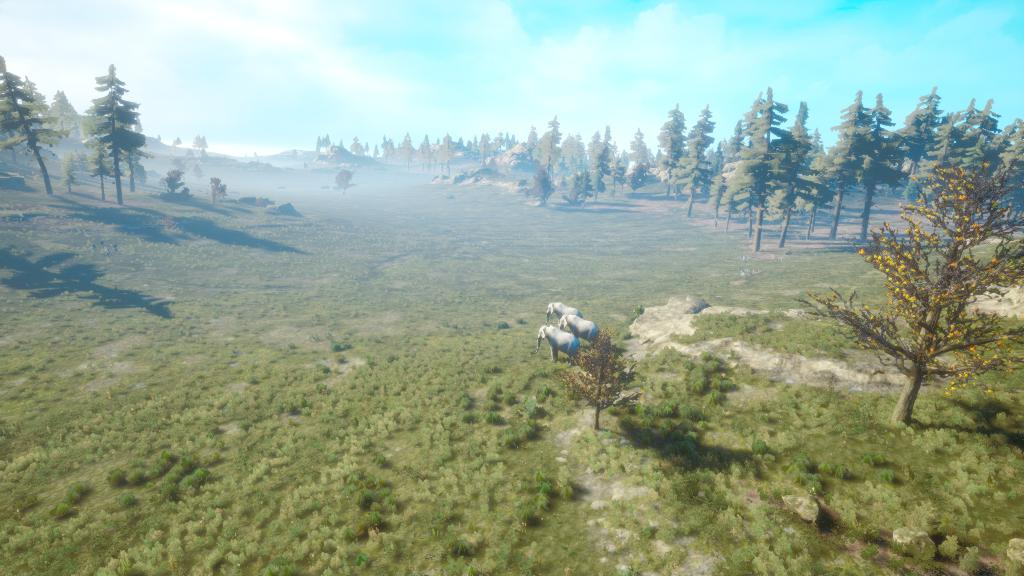elephant: (532, 323, 585, 371), (553, 313, 603, 348), (540, 300, 586, 327)
